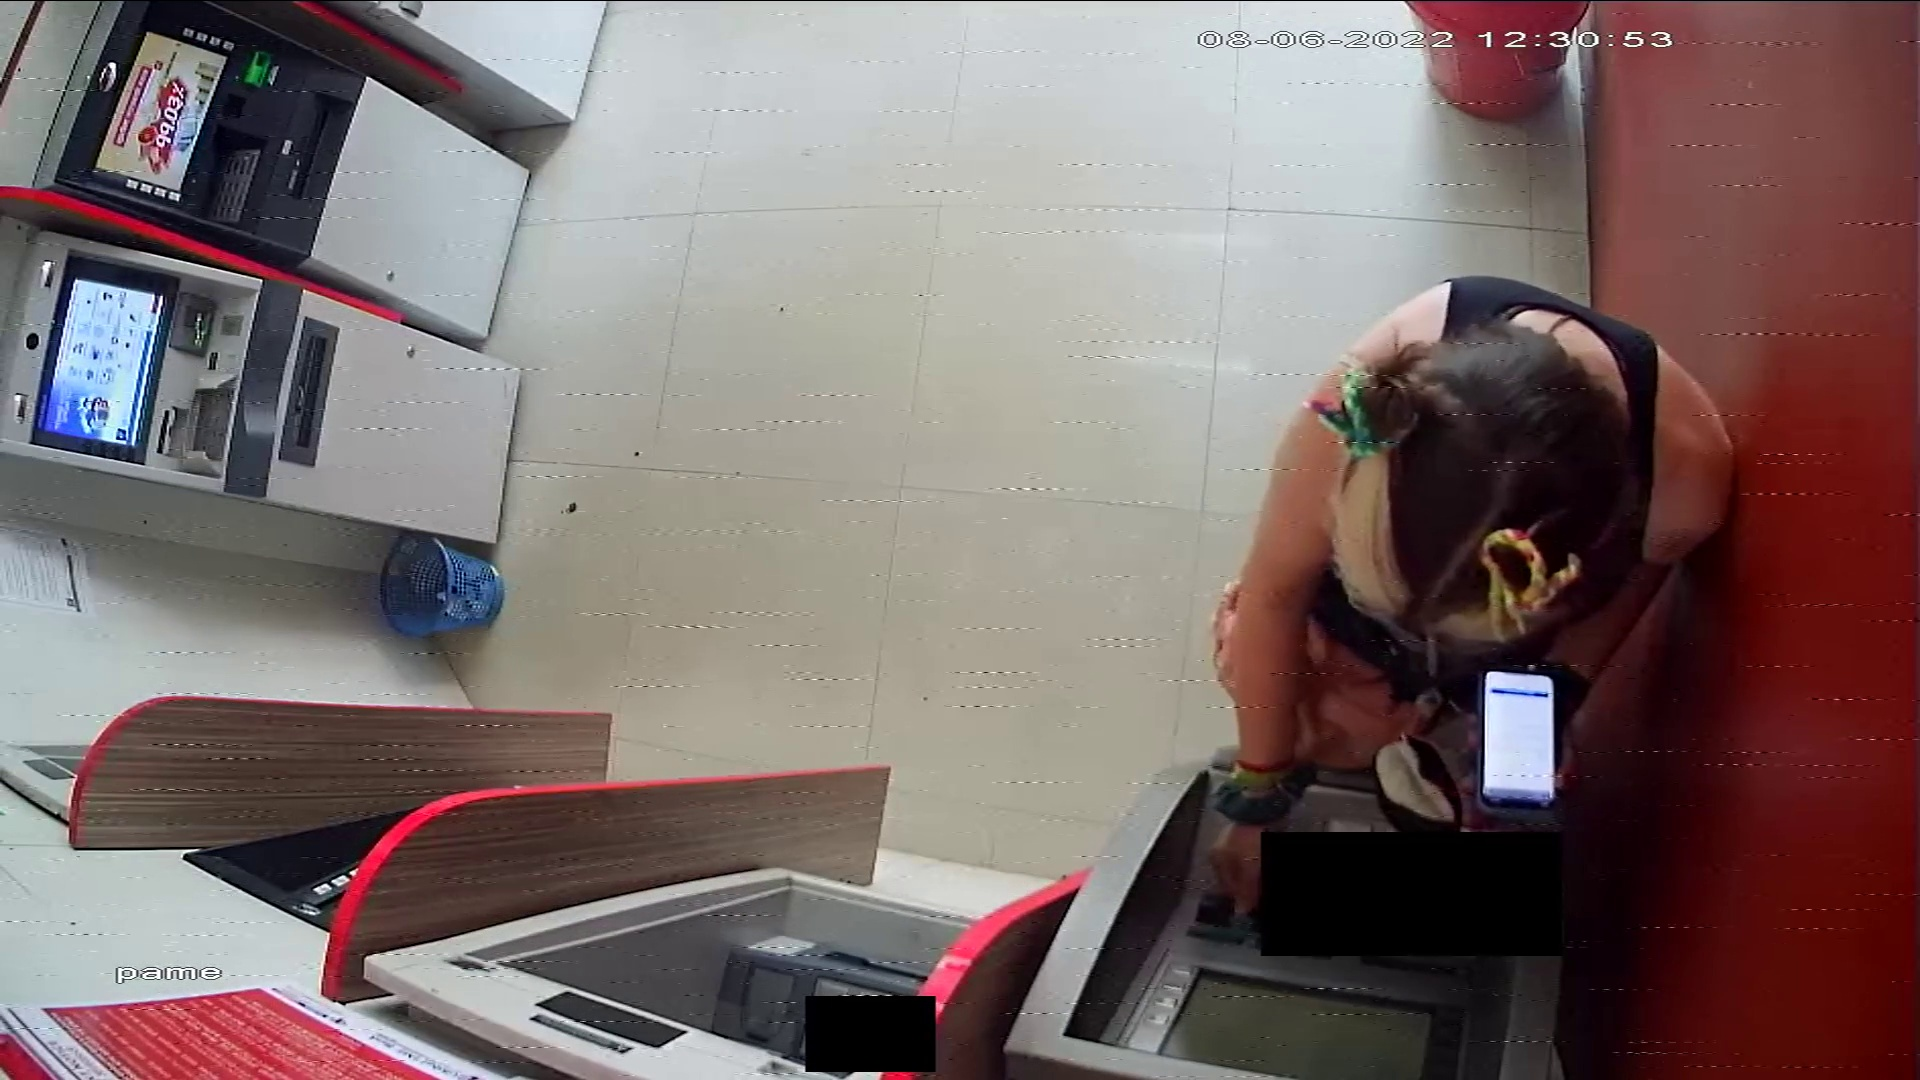person: (1209, 274, 1735, 917)
phone: (1478, 669, 1561, 813)
